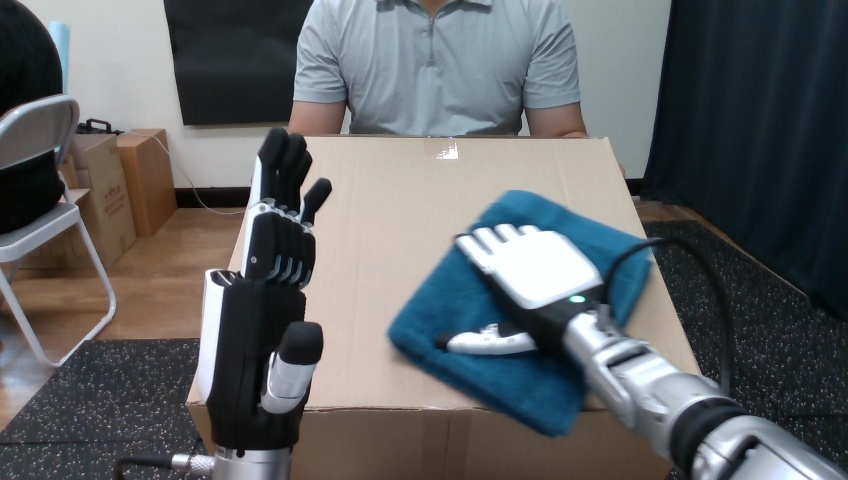left robot hand: (447, 225, 844, 478), (159, 128, 330, 479)
